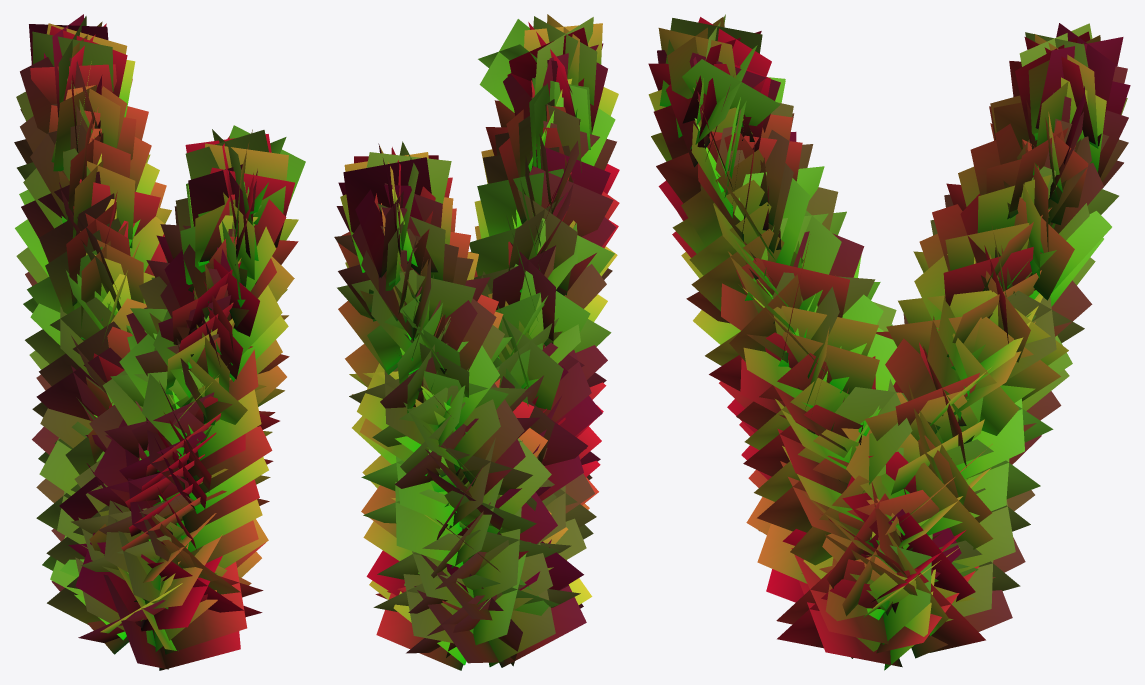
File: URP_P4_Tree_10_LOD_3.fbx
3 renders of one model, left to right at view 1: azimuth 30°, elevation 25°; view 2: azimuth 150°, elevation 25°; view 3: azimuth 270°, elevation 25°, orthographic. The views are drawn at different scales.
Visible parts, largest first — view 1: Tree_10_LOD_3; view 2: Tree_10_LOD_3; view 3: Tree_10_LOD_3.
Part boxes in pixels (left/top/right/bottom): Tree_10_LOD_3: left=14, top=14, right=305, bottom=670; Tree_10_LOD_3: left=334, top=14, right=619, bottom=670; Tree_10_LOD_3: left=648, top=14, right=1130, bottom=670.
Size of the model in its own units: 211 by 645 by 442.
